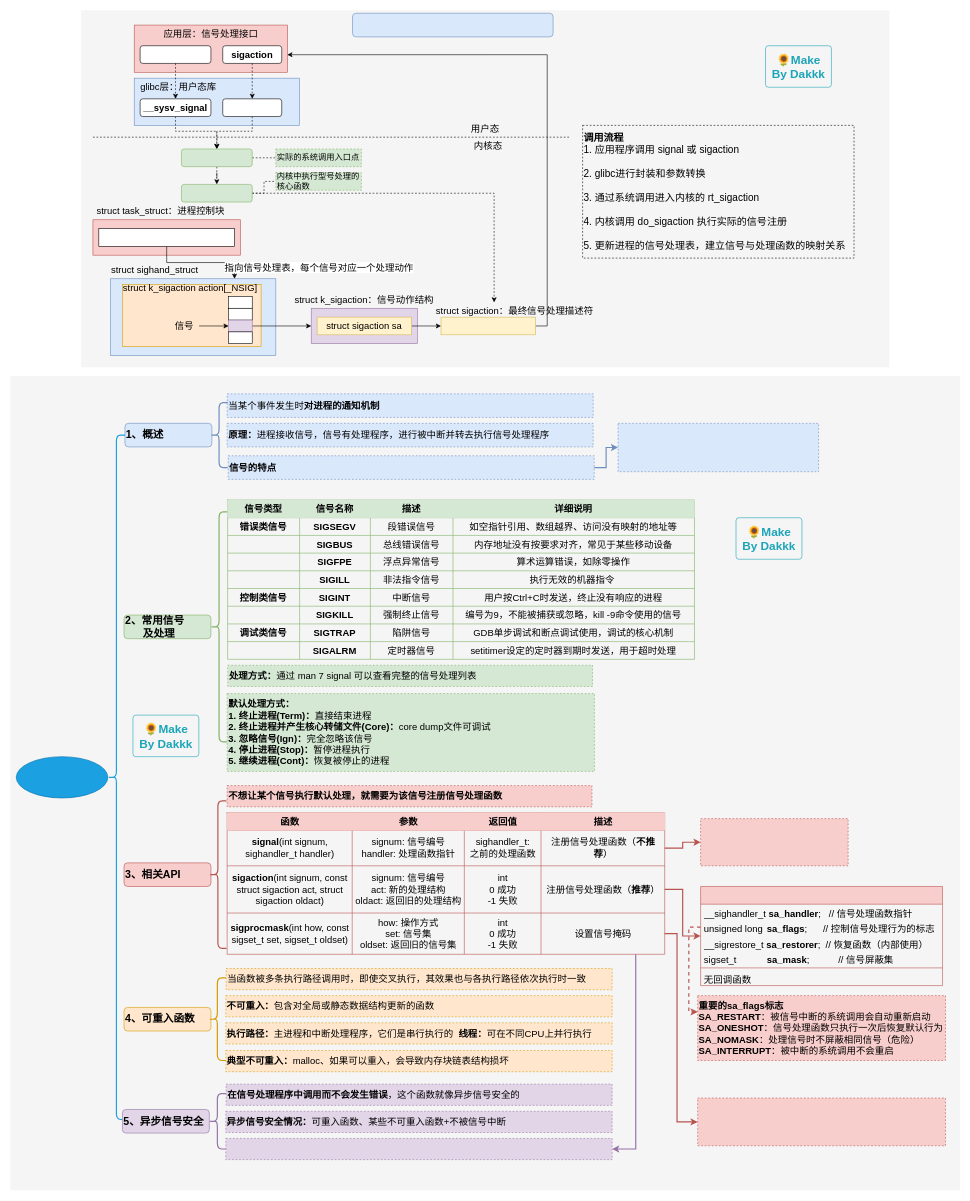
This 970x1201 diagram has some shape labels left out. The shapes that lost their labels are listed below. From the top down, each one's box as (x1, y1, x2, y2) in pixels, then its label:
(352, 13, 553, 37): Linux系统信号处理流程
(140, 45, 211, 63): signal
(222, 98, 282, 117): __sigaction
(181, 148, 252, 167): rt_sigaction
(181, 184, 252, 202): do_sigaction
(98, 228, 235, 246): struct sighand_struct *sighand
(440, 317, 535, 335): __sighandler_t
(617, 423, 819, 472): 异步性： 信号的到来时机是不可预料的 中断性： 类似硬件中断，会打断正在执行的程序 通信性： 可以用作进程间的原始通信手段 事件驱动： 响应各种系统事件
(16, 756, 108, 798): 信号处理机制
(700, 818, 848, 866): 不推荐原因： 1. 不同实现的行为不同 2. 缺乏对信号处理行为的精细控制 3. 可能导致不可预期的问题
(700, 886, 943, 986): struct sigaction
(697, 1097, 945, 1146): how的取值 SIG_BLOCK ：阻塞指定信号 SIG_UNBLOCK ：解除阻塞 SIG_SETMASK ：设置信号掩码
(225, 1138, 612, 1160): 实现： 可以设置进程的信号掩码，避免进程被信号中断
